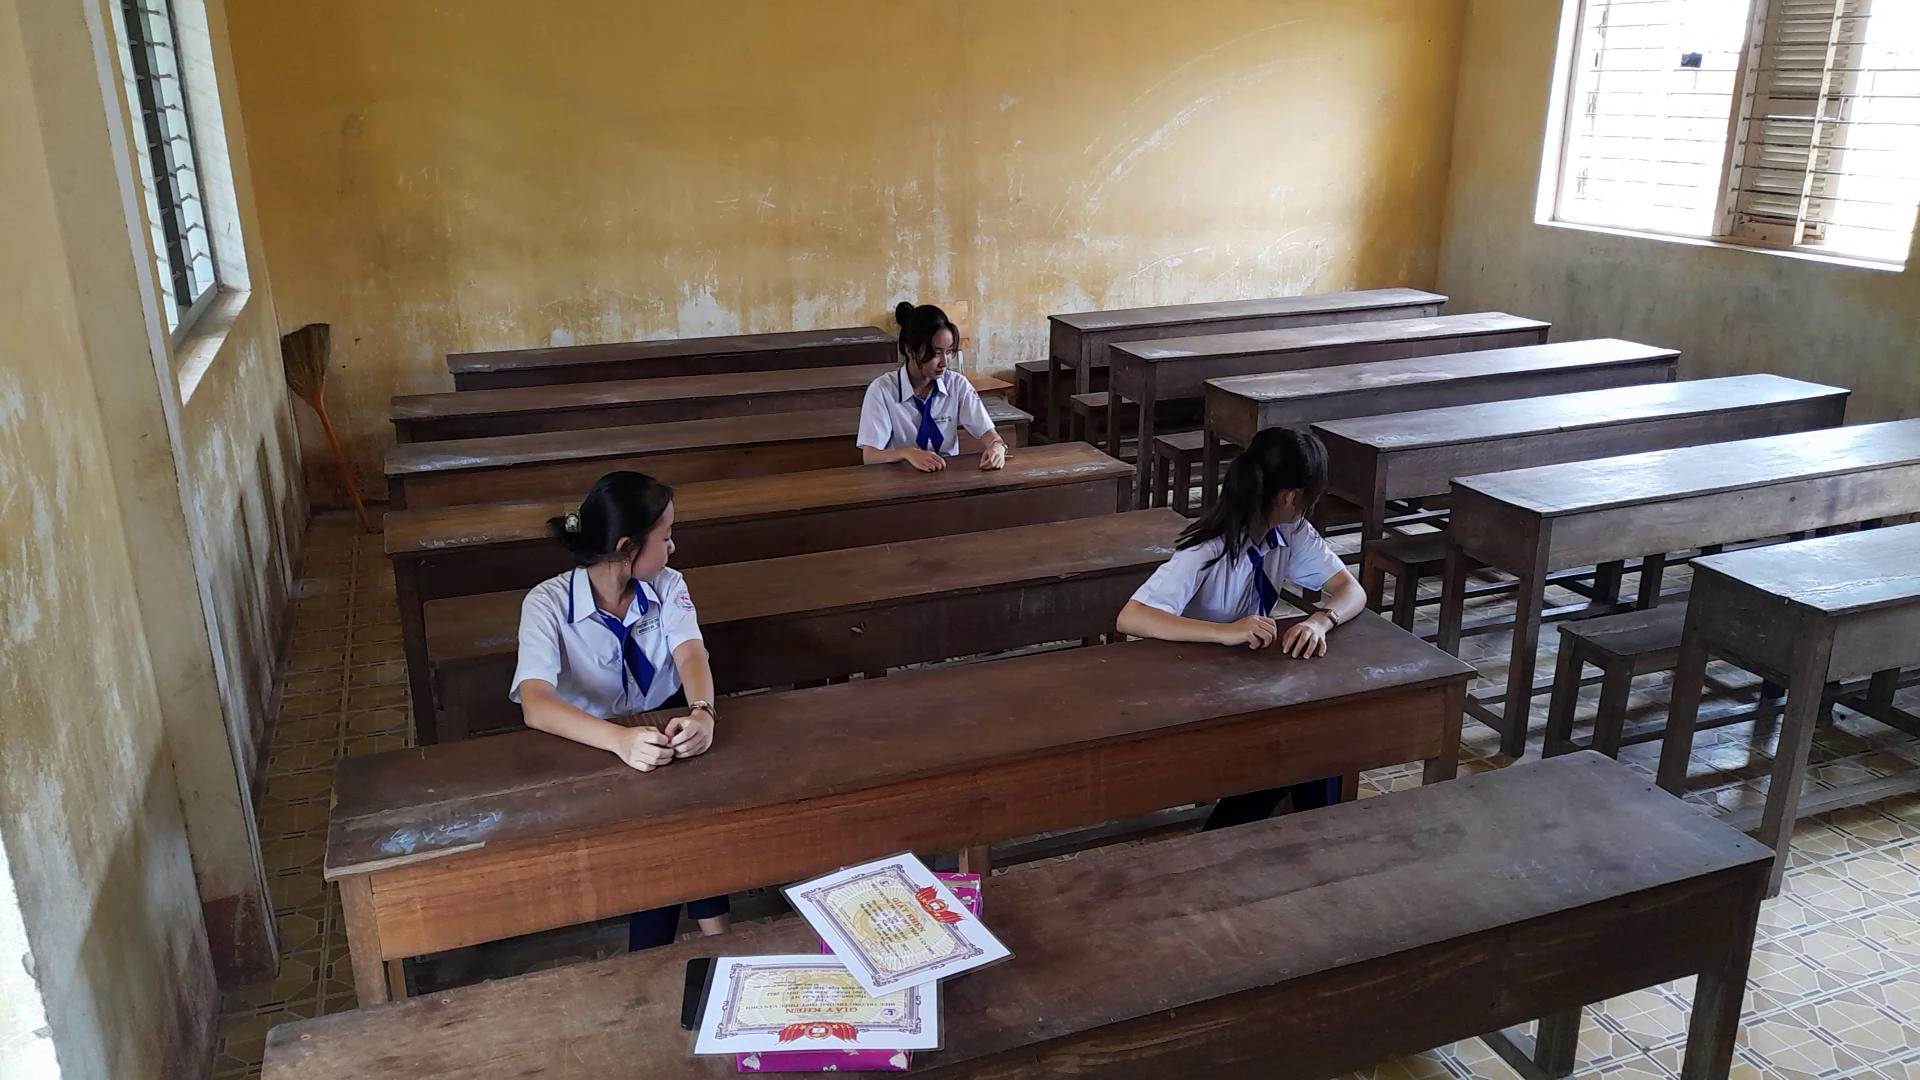Look Around: (545, 456, 705, 593), (1193, 407, 1353, 543), (858, 287, 971, 396)
